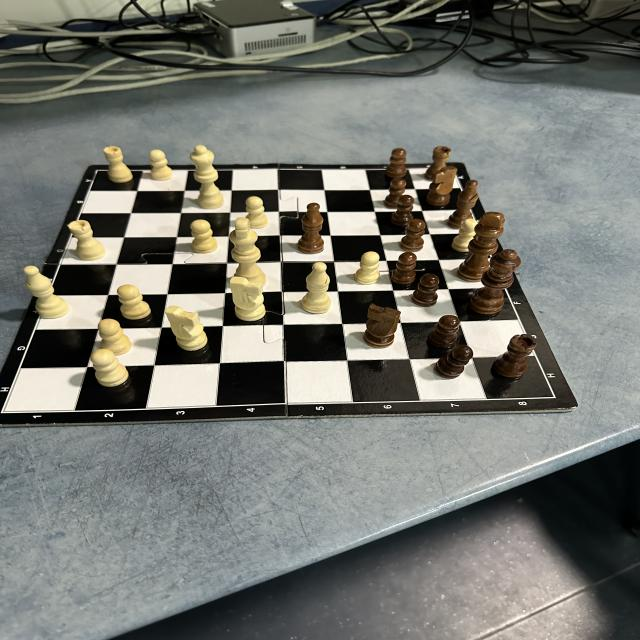Black-Bishop: (449, 180, 479, 228), (297, 203, 324, 254)
Black-King: (458, 211, 504, 282)
Black-Knight: (364, 304, 401, 347), (427, 166, 458, 207)
Black-Pawn: (434, 344, 473, 378), (427, 314, 461, 350), (399, 218, 425, 251), (412, 273, 438, 306), (392, 253, 416, 285), (385, 179, 406, 209), (388, 148, 407, 179), (393, 195, 414, 223)
Black-Queen: (469, 249, 518, 314)
Black-Rook: (494, 333, 536, 377), (426, 146, 450, 179)
White-Bishop: (24, 265, 69, 319), (302, 262, 330, 314)
White-King: (230, 218, 264, 290)
White-Knight: (165, 304, 208, 352), (232, 276, 265, 322)
White-Pawn: (89, 351, 129, 387), (116, 284, 150, 318), (98, 318, 130, 354), (191, 219, 217, 253), (452, 218, 477, 252), (355, 251, 380, 284), (149, 149, 172, 180), (245, 196, 266, 228)
White-Queen: (189, 146, 223, 209)
White-Rook: (68, 220, 106, 260), (104, 146, 133, 183)
